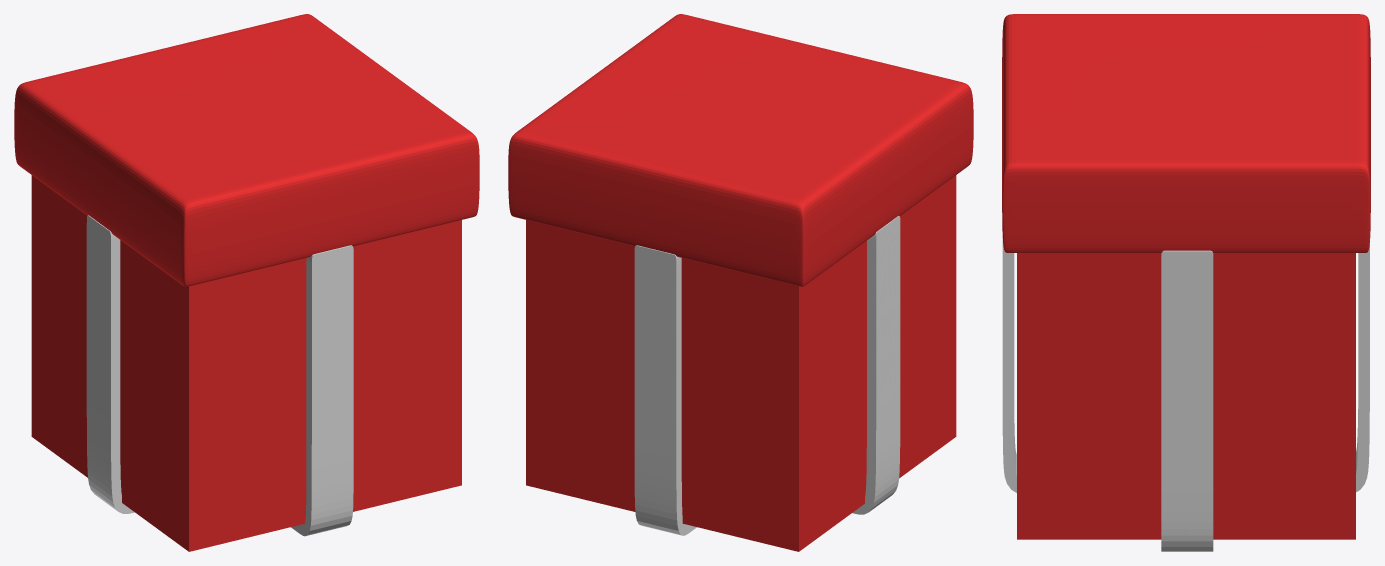
The model's file is birthday_gift.fbx.
3 renders of one model, left to right at view 1: azimuth 30°, elevation 25°; view 2: azimuth 150°, elevation 25°; view 3: azimuth 270°, elevation 25°, orthographic. The views are drawn at different scales.
Parts seen in each view (by area): view 1: box, top, front ribbon, side ribbon; view 2: box, top, front ribbon, side ribbon; view 3: top, box, side ribbon, front ribbon.
Part boxes in pixels (box(x1,y1,x2,y2)): box: box(31, 175, 461, 551); top: box(14, 14, 479, 286); front ribbon: box(291, 245, 353, 536); side ribbon: box(86, 215, 134, 513); box: box(526, 175, 956, 551); top: box(508, 14, 973, 286); front ribbon: box(634, 245, 696, 535); side ribbon: box(852, 216, 900, 514); top: box(1002, 14, 1370, 252); box: box(1017, 253, 1355, 539); side ribbon: box(1161, 250, 1213, 551); front ribbon: box(1002, 238, 1369, 492).
Bounding box in the file's own units: 300 × 355 × 300.
